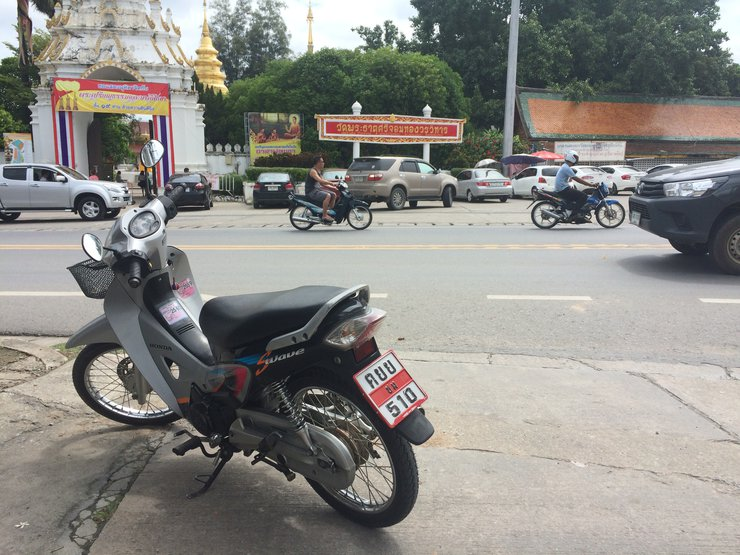helmet: (563, 148, 583, 167)
motorcycle: (73, 138, 431, 530), (280, 175, 376, 232), (525, 178, 626, 230)
